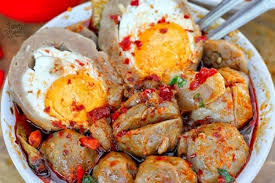bakso: (44, 46, 258, 181)
